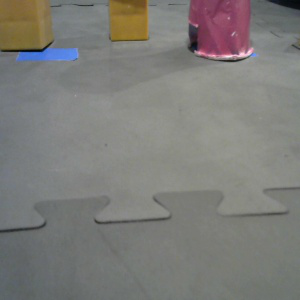Right: (187, 1, 254, 60)
